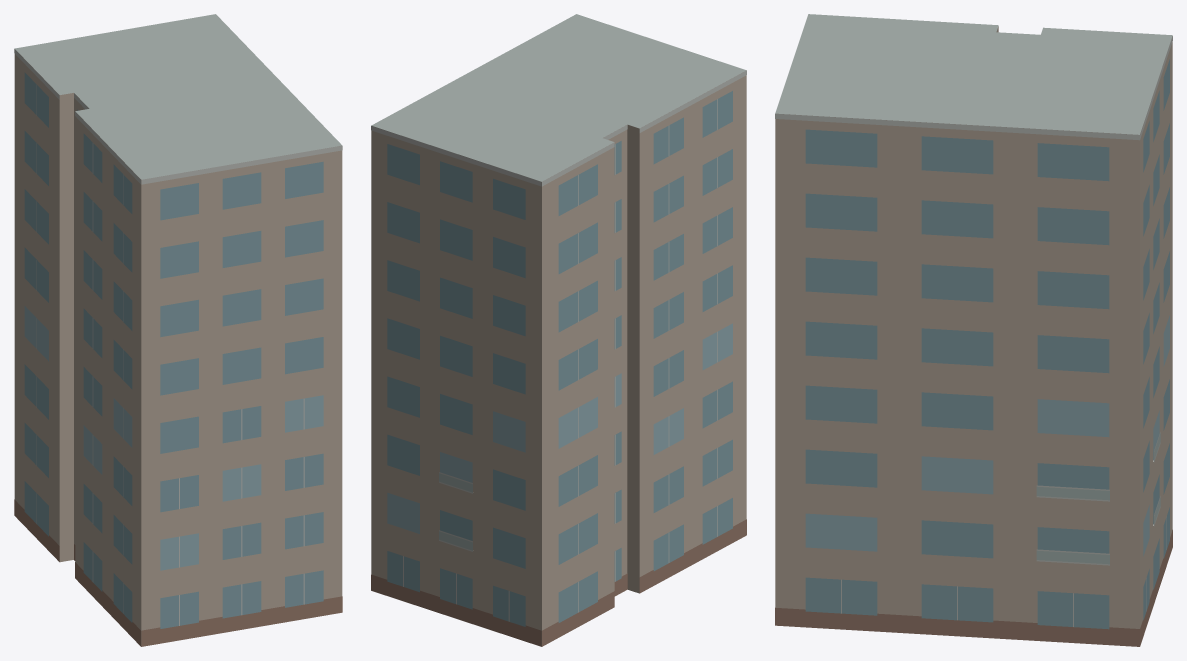
The model's file is survey-upis-32672302.glb.
3 views of the same model, side by side, from view 1: azimuth 30°, elevation 25°; view 2: azimuth 150°, elevation 25°; view 3: azimuth 270°, elevation 25° (orthographic). The views are drawn at different scales.
Parts seen in each view (by area): view 1: survey-upis-32672302.tmp; view 2: survey-upis-32672302.tmp; view 3: survey-upis-32672302.tmp.
Boxes of the visible parts, x1,y1,x2,y2 form: survey-upis-32672302.tmp: [14, 14, 342, 646]; survey-upis-32672302.tmp: [371, 14, 746, 646]; survey-upis-32672302.tmp: [775, 14, 1172, 646].
Size of the model in its own units: 11.86 by 23.4 by 16.48.
